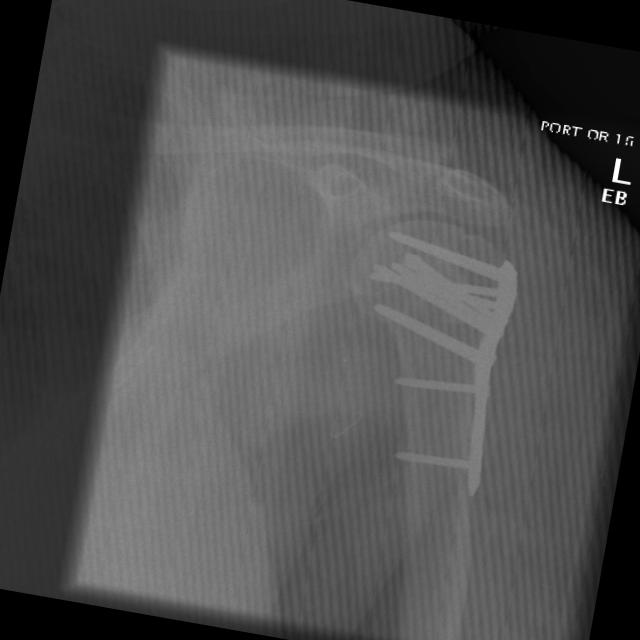shoulder fracture: (427, 207, 500, 258)
